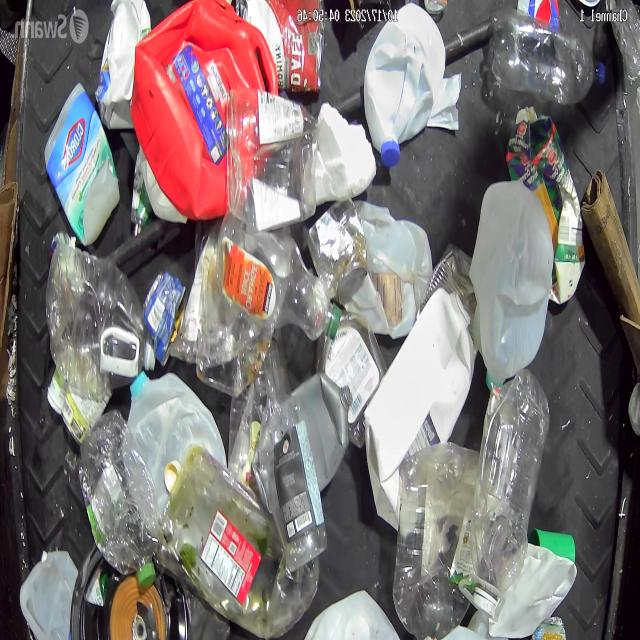milk_jug: (364, 289, 476, 530), (469, 180, 552, 380), (325, 205, 429, 341), (126, 370, 223, 506), (364, 4, 447, 162), (488, 540, 575, 639), (17, 547, 78, 640), (299, 590, 408, 640)
non_white_jug: (131, 1, 279, 220), (291, 373, 352, 492)
plastic_bottle: (81, 409, 158, 586), (493, 15, 604, 107)
